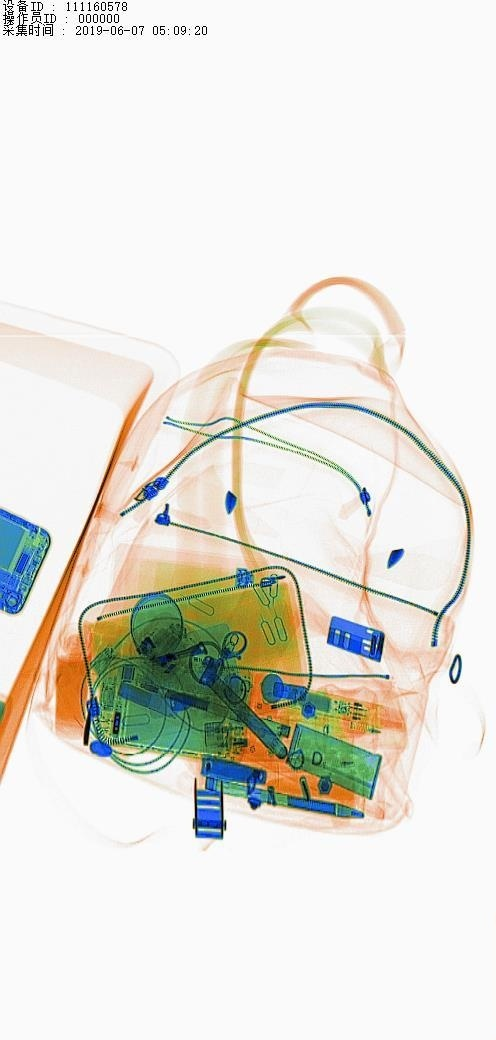NonmetallicFire: (188, 710, 304, 761)
